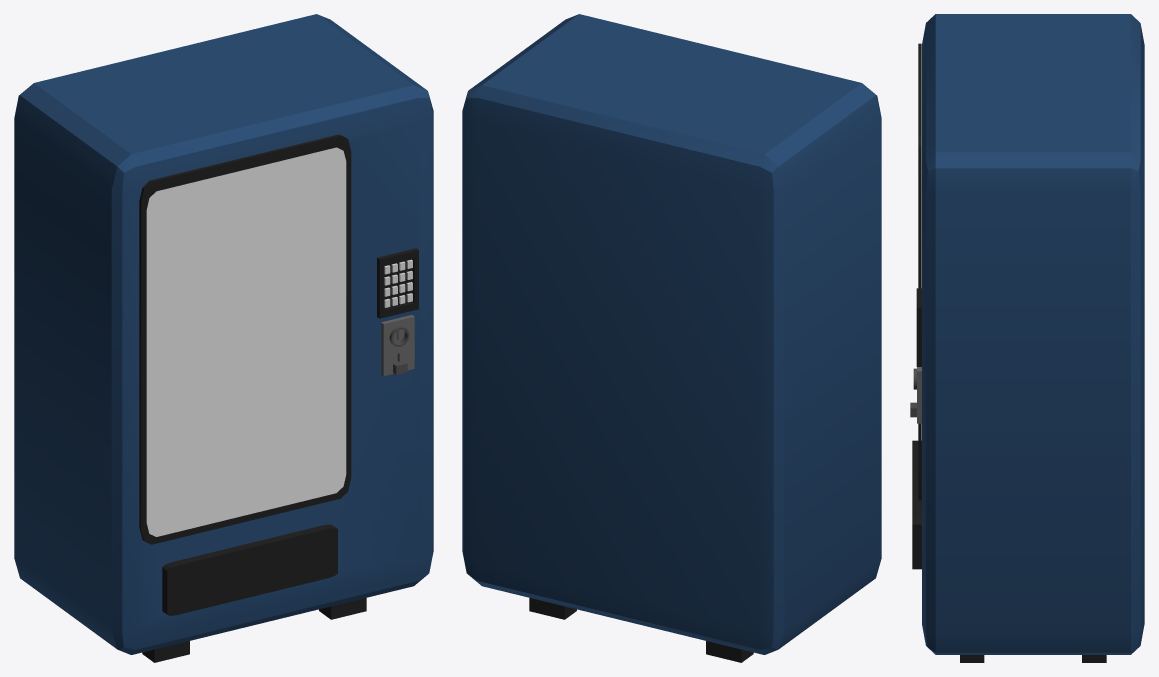
Rendered from vendingmachine.fbx.
The picture shows the model from 3 angles, left to right: view 1: azimuth 30°, elevation 25°; view 2: azimuth 150°, elevation 25°; view 3: azimuth 270°, elevation 25°; orthographic projection.
Parts seen in each view (by area): view 1: can.023; view 2: can.023; view 3: can.023.
Boxes of the visible parts, bbox=[...] form: can.023: bbox=[14, 14, 433, 662]; can.023: bbox=[462, 14, 881, 662]; can.023: bbox=[910, 14, 1144, 662].
Size of the model in its own units: 117 by 182 by 73.13.
